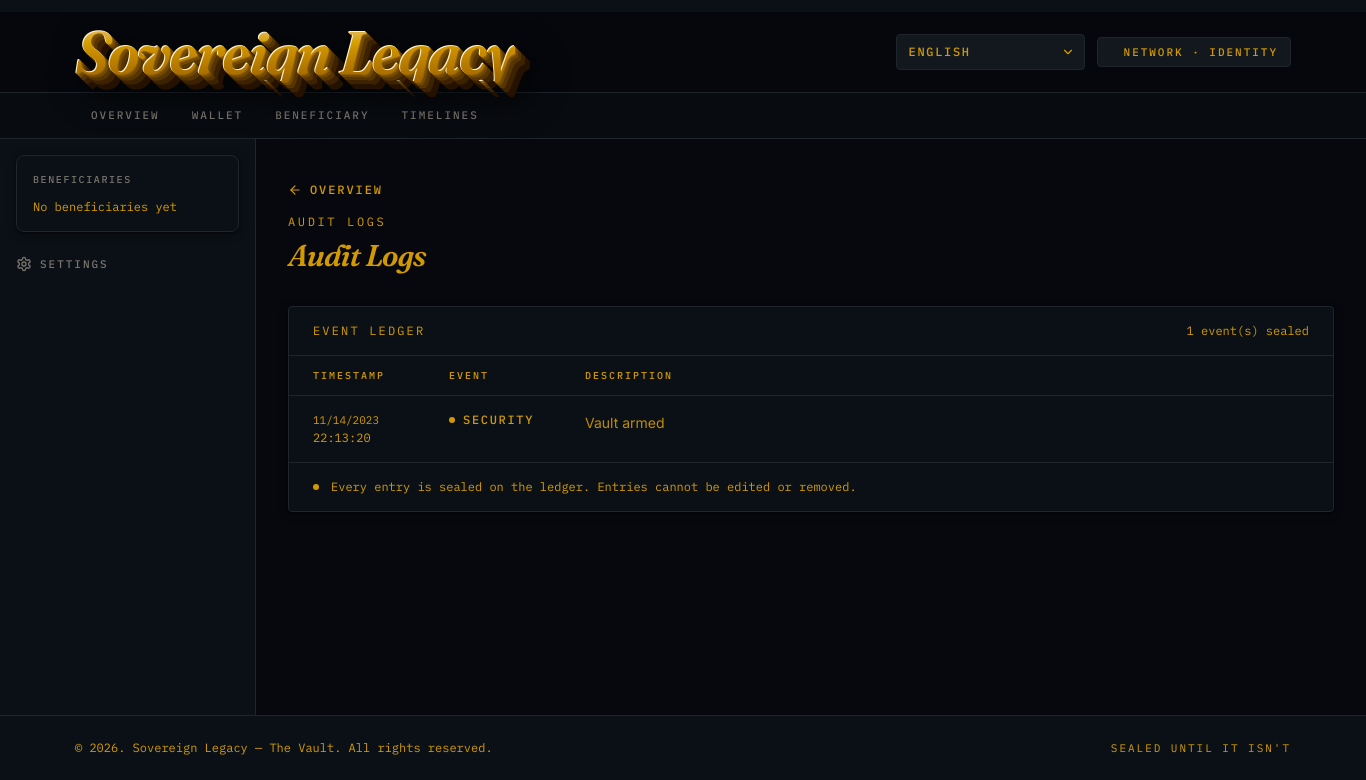
Test: AuditLogPage characterization (unchanged audit-log behavior) › re-renders the static wrapper text in the selected language immediately
The width and height of the screenshot is (1366, 780).
Expected: the column heading "Timestamp" is shown, top-left (289, 356), bottom-right (425, 395)
Expected: the column heading "Event" is shown, top-left (425, 356), bottom-right (561, 395)
# Switch to Spanish via the header language switcher.
Select "Español" in the dropdown named "Language" at (990, 52), box top-left (896, 34), bottom-right (1084, 70)
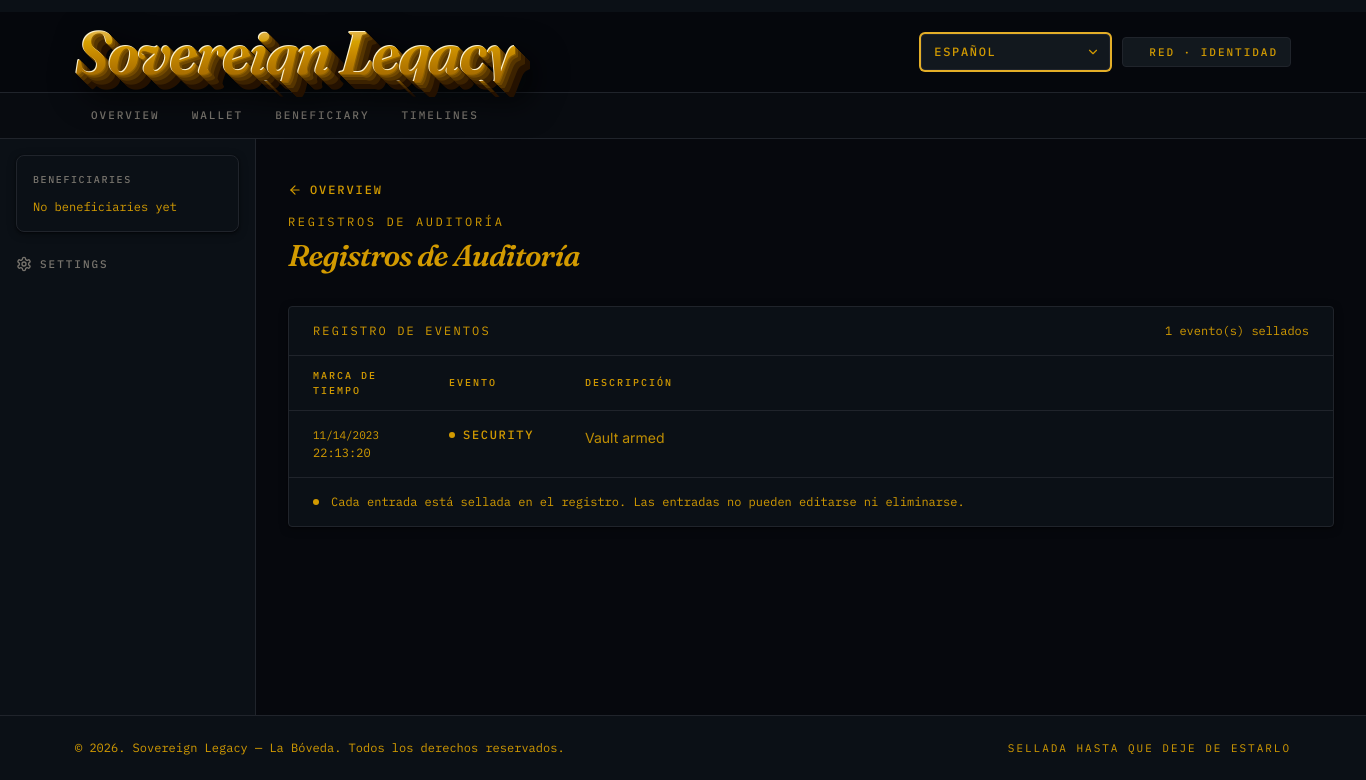
Now the column heading "Marca de tiempo" is shown, box top-left (289, 356), bottom-right (425, 410)
Now the column heading "Evento" is shown, box top-left (425, 356), bottom-right (561, 410)
Now the column heading "Descripción" is shown, box top-left (561, 356), bottom-right (1333, 410)
